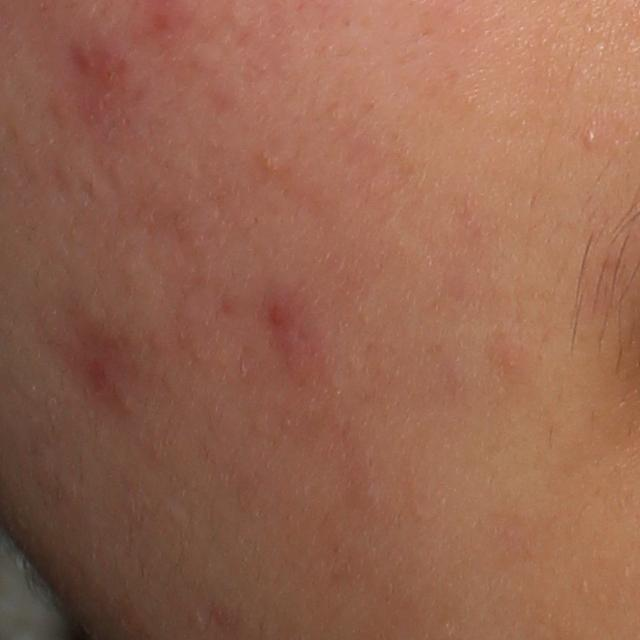comedo: (255, 143, 285, 172), (582, 130, 599, 148)
